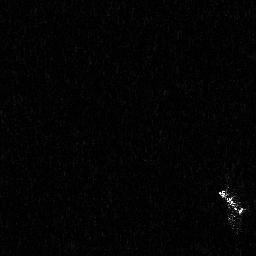ship: (215, 188, 246, 236)
